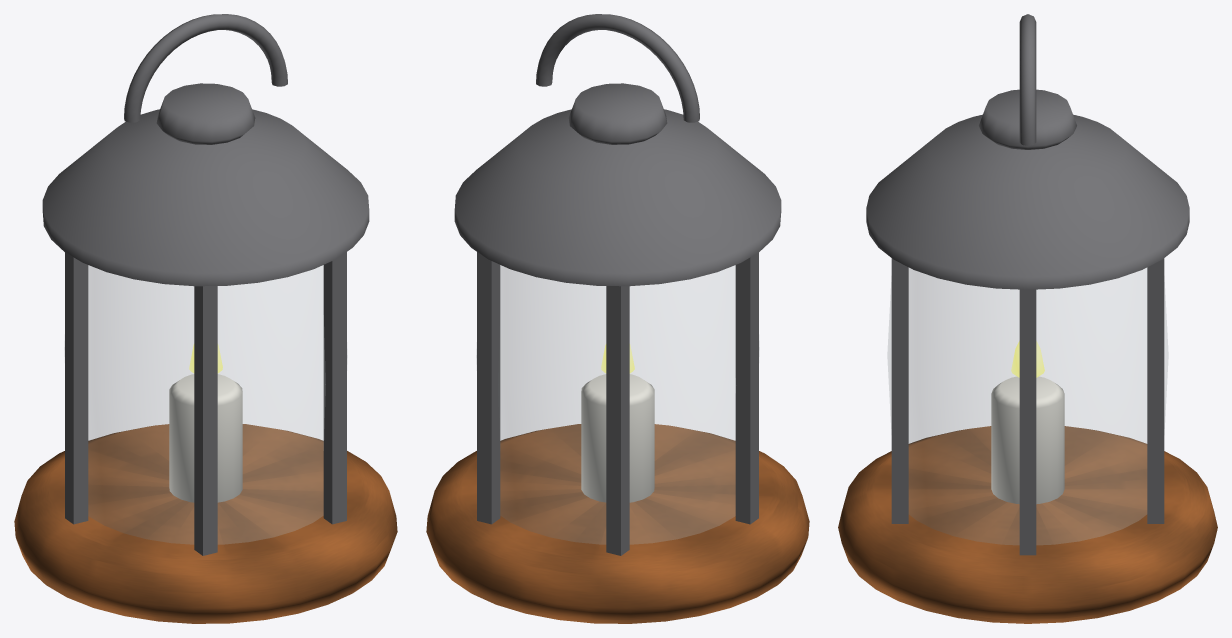
File: lantern.glb
The picture shows the model from 3 angles, left to right: view 1: azimuth 30°, elevation 25°; view 2: azimuth 150°, elevation 25°; view 3: azimuth 270°, elevation 25°; orthographic projection.
Parts seen in each view (by area): view 1: frame, glass, base, candle, handle; view 2: frame, glass, base, candle, handle; view 3: frame, glass, base, candle, handle.
Boxes of the visible parts, left/top/right/bottom form: frame: left=42, top=83, right=369, bottom=555; glass: left=64, top=265, right=347, bottom=544; base: left=14, top=424, right=397, bottom=623; candle: left=169, top=374, right=242, bottom=502; handle: left=124, top=14, right=287, bottom=122; frame: left=454, top=83, right=781, bottom=555; glass: left=476, top=265, right=759, bottom=544; base: left=426, top=424, right=809, bottom=623; candle: left=581, top=374, right=654, bottom=502; handle: left=536, top=14, right=699, bottom=122; frame: left=866, top=89, right=1189, bottom=555; glass: left=887, top=268, right=1168, bottom=544; base: left=838, top=426, right=1217, bottom=623; candle: left=991, top=376, right=1064, bottom=504; handle: left=1019, top=14, right=1036, bottom=145.
Size of the model in its own units: 0.27 by 0.411 by 0.27.
5 materials, 1 textured.
